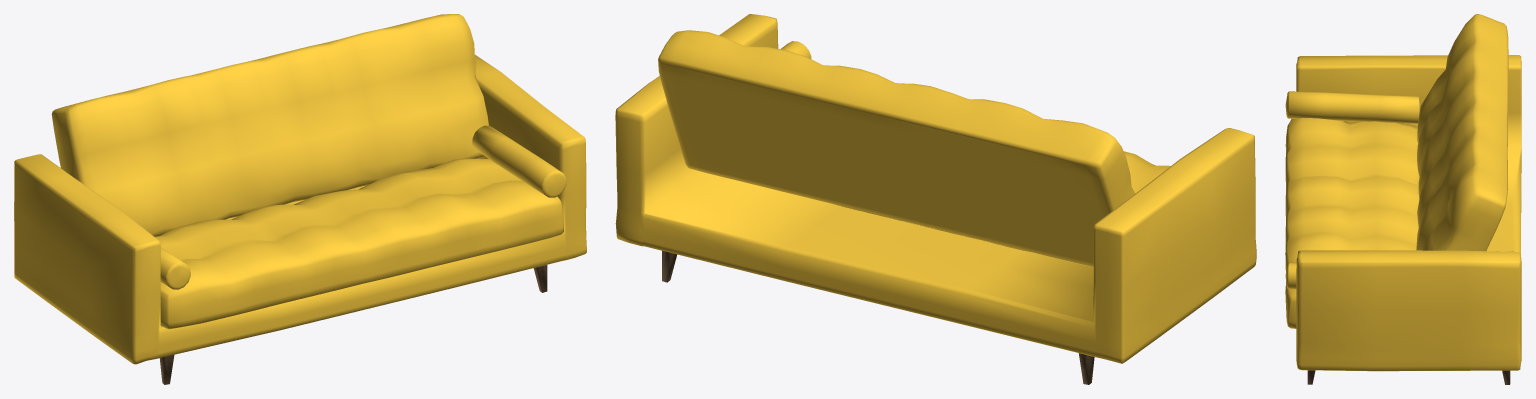
The model's file is sofa_ikea_askesta.glb.
3 renders of one model, left to right at view 1: azimuth 30°, elevation 25°; view 2: azimuth 150°, elevation 25°; view 3: azimuth 270°, elevation 25°, orthographic. The views are drawn at different scales.
Visible parts, largest first — view 1: Object_2; view 2: Object_2; view 3: Object_2.
Part boxes in pixels (x1,y1,x2,y2): Object_2: (14, 14, 586, 384); Object_2: (615, 14, 1256, 384); Object_2: (1285, 14, 1521, 384).
Bounding box in the file's own units: 2.44 × 1.08 × 1.16.
Materials: 1 (1 with a texture image).
